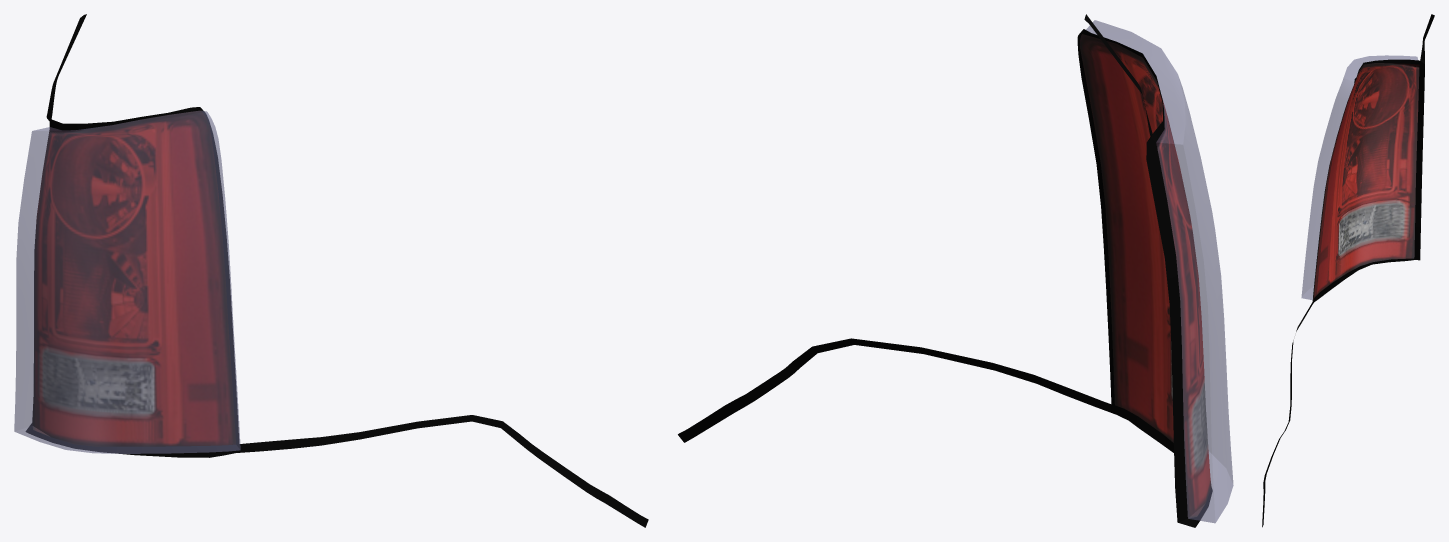
3 views of the same model, side by side, from view 1: azimuth 30°, elevation 25°; view 2: azimuth 150°, elevation 25°; view 3: azimuth 270°, elevation 25° (orthographic). The views are drawn at different scales.
Parts seen in each view (by area): view 1: H713_541C_R_1_DTaSI_H713_541C_R, H713_541C_R_H713_541C_R_2_N, H713_541C_R_H713_541C_R_2_D; view 2: H713_541C_R_H713_541C_R_2_N, H713_541C_R_1_DTaSI_H713_541C_R, H713_541C_R_H713_541C_R_2_D; view 3: H713_541C_R_H713_541C_R_2_N, H713_541C_R_1_DTaSI_H713_541C_R, H713_541C_R_H713_541C_R_2_D.
Boxes of the visible parts, x1=… form: H713_541C_R_1_DTaSI_H713_541C_R: x1=14, y1=110, x2=240, y2=453; H713_541C_R_H713_541C_R_2_N: x1=32, y1=110, x2=235, y2=446; H713_541C_R_H713_541C_R_2_D: x1=26, y1=14, x2=648, y2=527; H713_541C_R_H713_541C_R_2_N: x1=1080, y1=34, x2=1211, y2=518; H713_541C_R_1_DTaSI_H713_541C_R: x1=1086, y1=20, x2=1233, y2=523; H713_541C_R_H713_541C_R_2_D: x1=678, y1=14, x2=1212, y2=527; H713_541C_R_H713_541C_R_2_N: x1=1313, y1=63, x2=1419, y2=299; H713_541C_R_1_DTaSI_H713_541C_R: x1=1301, y1=55, x2=1417, y2=299; H713_541C_R_H713_541C_R_2_D: x1=1262, y1=14, x2=1434, y2=527.
Bounding box in the file's own units: 66.98 × 64.44 × 27.52.
